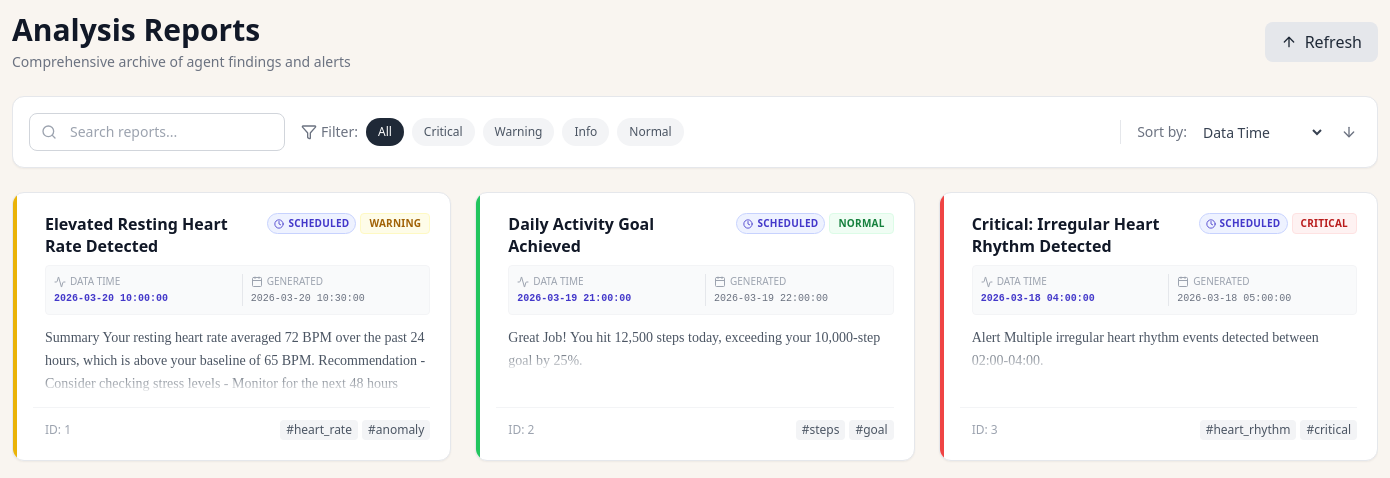
Test: ReportsView › filters reports by search query
The width and height of the screenshot is (1390, 478).
Check: the heading "Elevated Resting Heart Rate Detected" is shown, box top-left (45, 213), bottom-right (259, 257)
In the field with placeholder "Search reports...": (157, 132) top-left (29, 113), bottom-right (285, 151), type "steps"
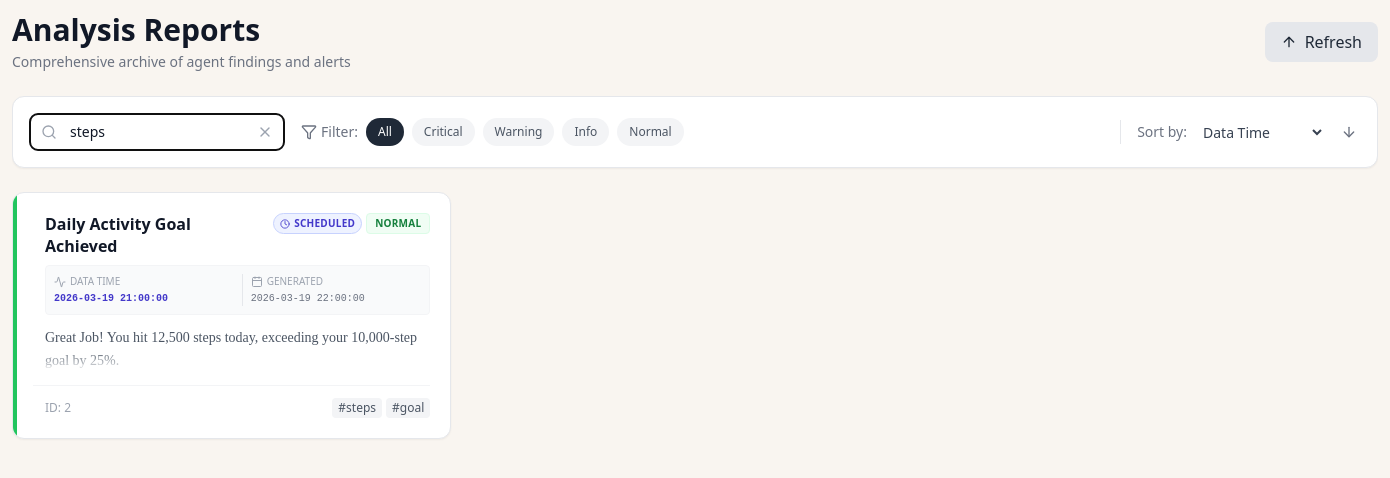
Check: the heading "Daily Activity Goal Achieved" is shown, box top-left (45, 213), bottom-right (191, 257)
Check: the heading "Elevated Resting Heart Rate Detected" is gone
